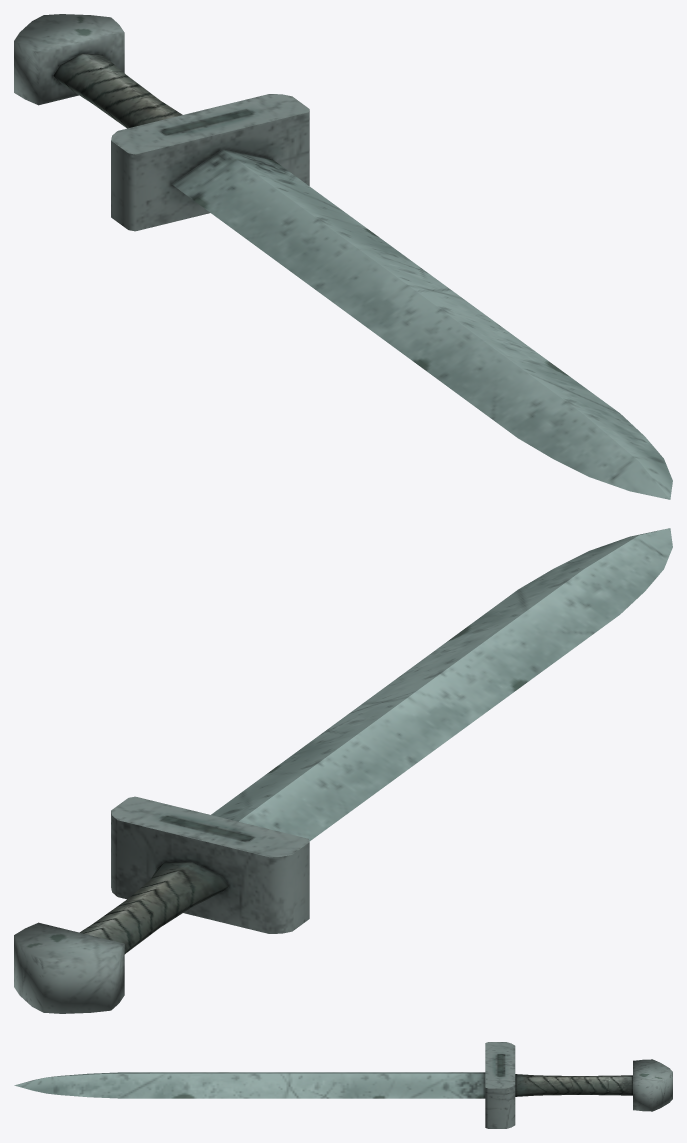
File: sb_obj_weapon006_BronzeSword.fbx
3 views of the same model, one above another, from view 1: azimuth 30°, elevation 25°; view 2: azimuth 150°, elevation 25°; view 3: azimuth 270°, elevation 25° (orthographic). The views are drawn at different scales.
Parts seen in each view (by area): view 1: sb_obj_weapon006_BronzeSword; view 2: sb_obj_weapon006_BronzeSword; view 3: sb_obj_weapon006_BronzeSword.
Boxes of the visible parts, x1,y1,x2,y2 form: sb_obj_weapon006_BronzeSword: (14, 14, 672, 499); sb_obj_weapon006_BronzeSword: (14, 528, 672, 1013); sb_obj_weapon006_BronzeSword: (14, 1042, 672, 1128).
Bounding box in the file's own units: 0.1018 × 0.0412 × 0.6094.
